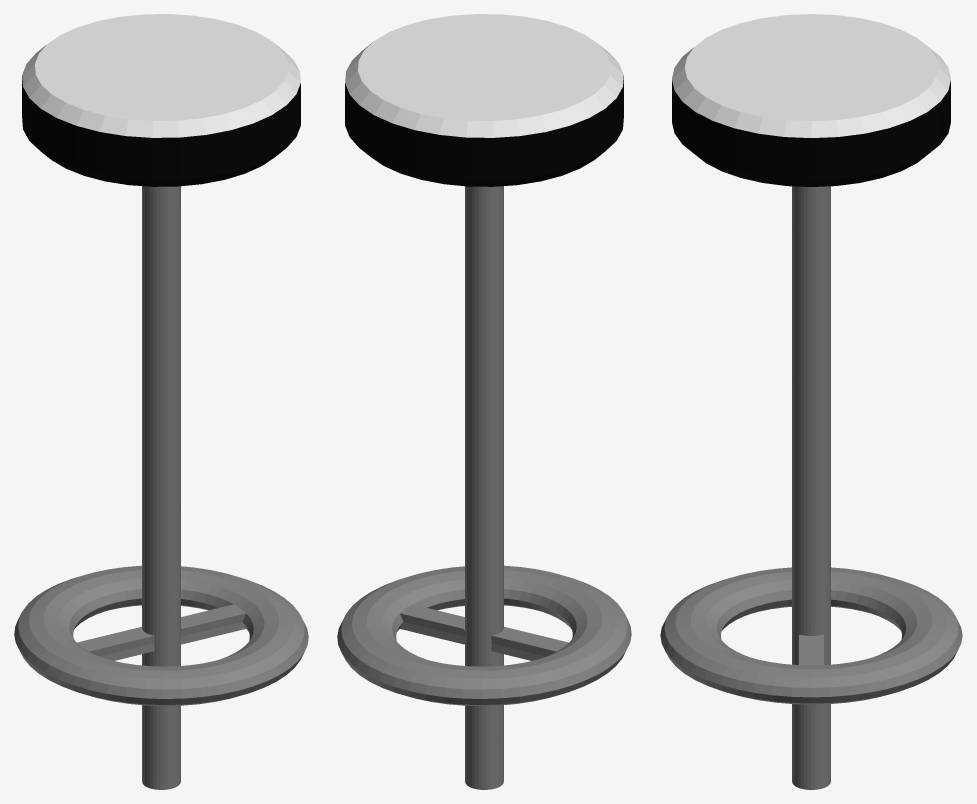
Rendered from Banco.fbx.
3 renders of one model, left to right at view 1: azimuth 30°, elevation 25°; view 2: azimuth 150°, elevation 25°; view 3: azimuth 270°, elevation 25°, orthographic.
Visible parts, largest first — view 1: Cylinder.001, Cylinder.002, Cylinder, Cylinder.003; view 2: Cylinder.001, Cylinder.002, Cylinder, Cylinder.003; view 3: Cylinder.001, Cylinder.002, Cylinder, Cylinder.003.
Boxes of the visible parts, x1,y1,x2,y2 form: Cylinder.001: (22, 14, 300, 137); Cylinder.002: (14, 565, 308, 705); Cylinder: (142, 186, 180, 789); Cylinder.003: (22, 76, 300, 186); Cylinder.001: (345, 14, 623, 137); Cylinder.002: (337, 565, 631, 705); Cylinder: (465, 186, 503, 789); Cylinder.003: (345, 76, 623, 186); Cylinder.001: (672, 14, 950, 137); Cylinder.002: (660, 567, 962, 704); Cylinder: (792, 186, 830, 789); Cylinder.003: (672, 80, 950, 186).
Size of the model in its own units: 58.18 by 157 by 60.24.
3 materials, 1 textured.
